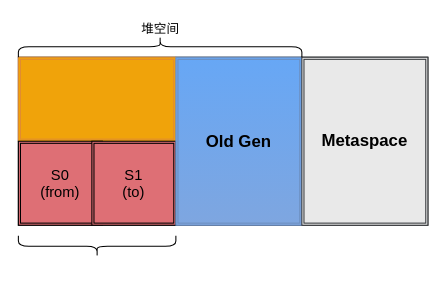
Image size: 446x295. Some labels were removed from this diagram. Each missing label, with the centre of its shape:
Eden: (x=96, y=98)
年轻代: (x=96, y=246)
